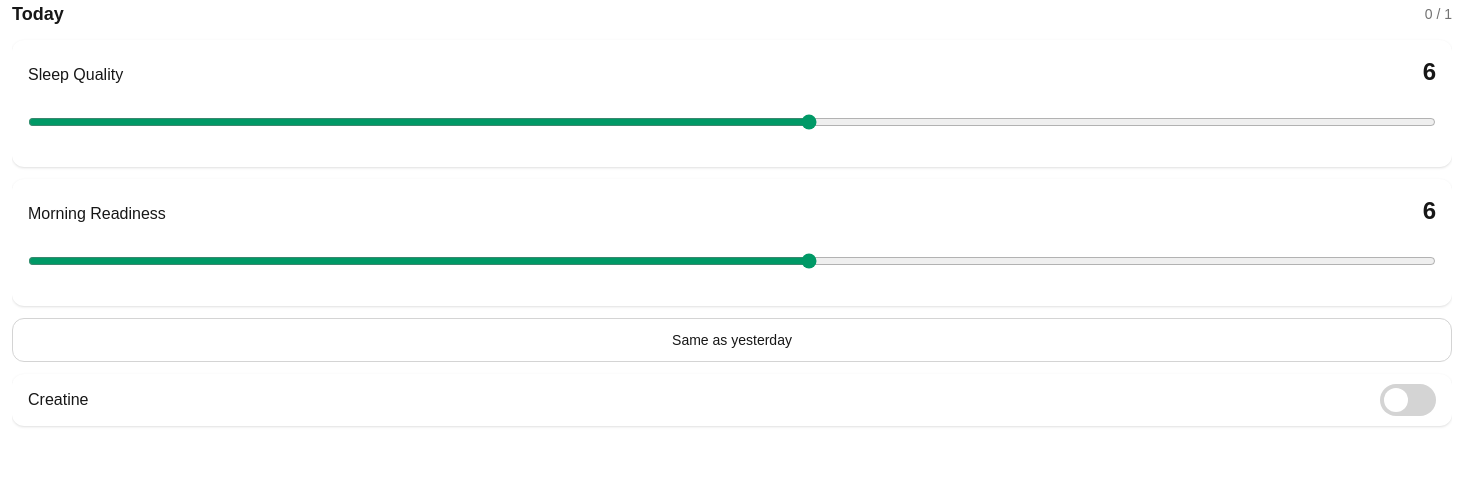
Test case: MorningCard › says so, once, when same-as-yesterday is dropped after a rollover
Click the button "Same as yesterday" at (732, 340), box [12,318,1452,362]
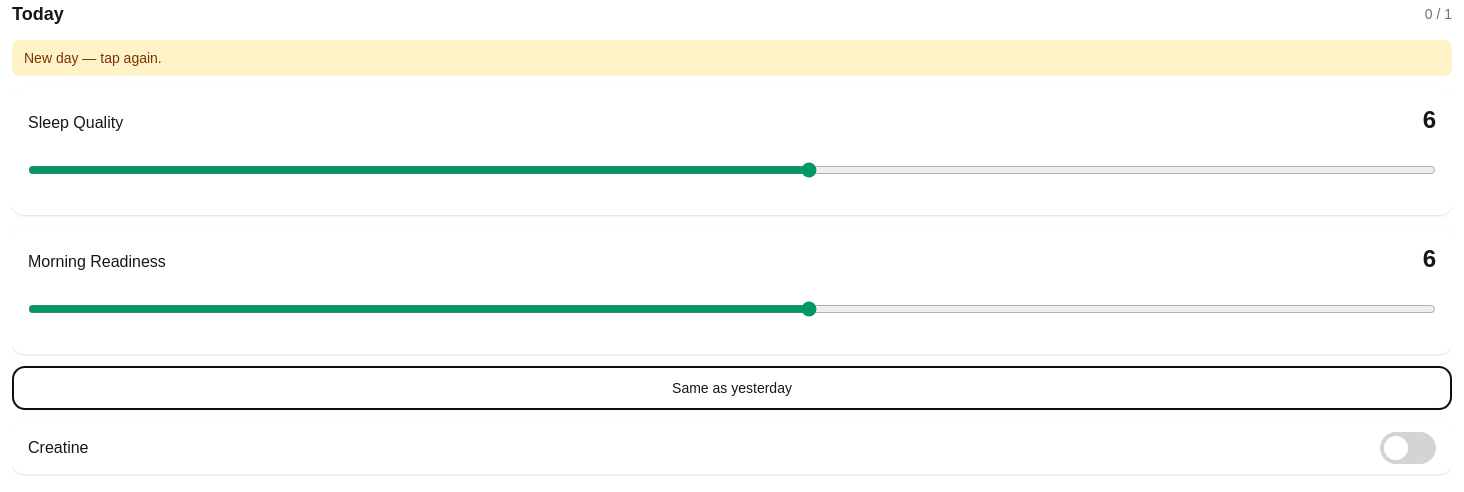
Expected: the text "New day — tap again." is shown once, [12,40,1452,76]
